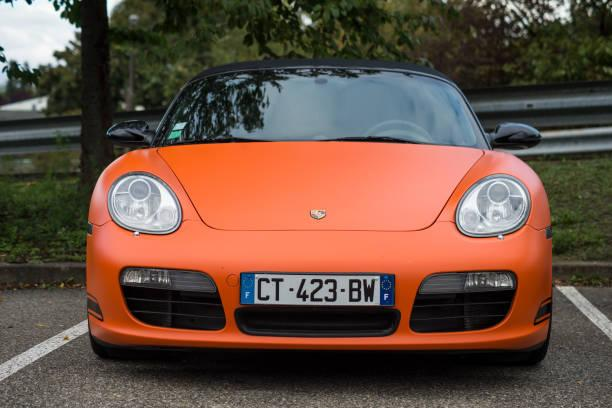porsche: (307, 207, 334, 223)
